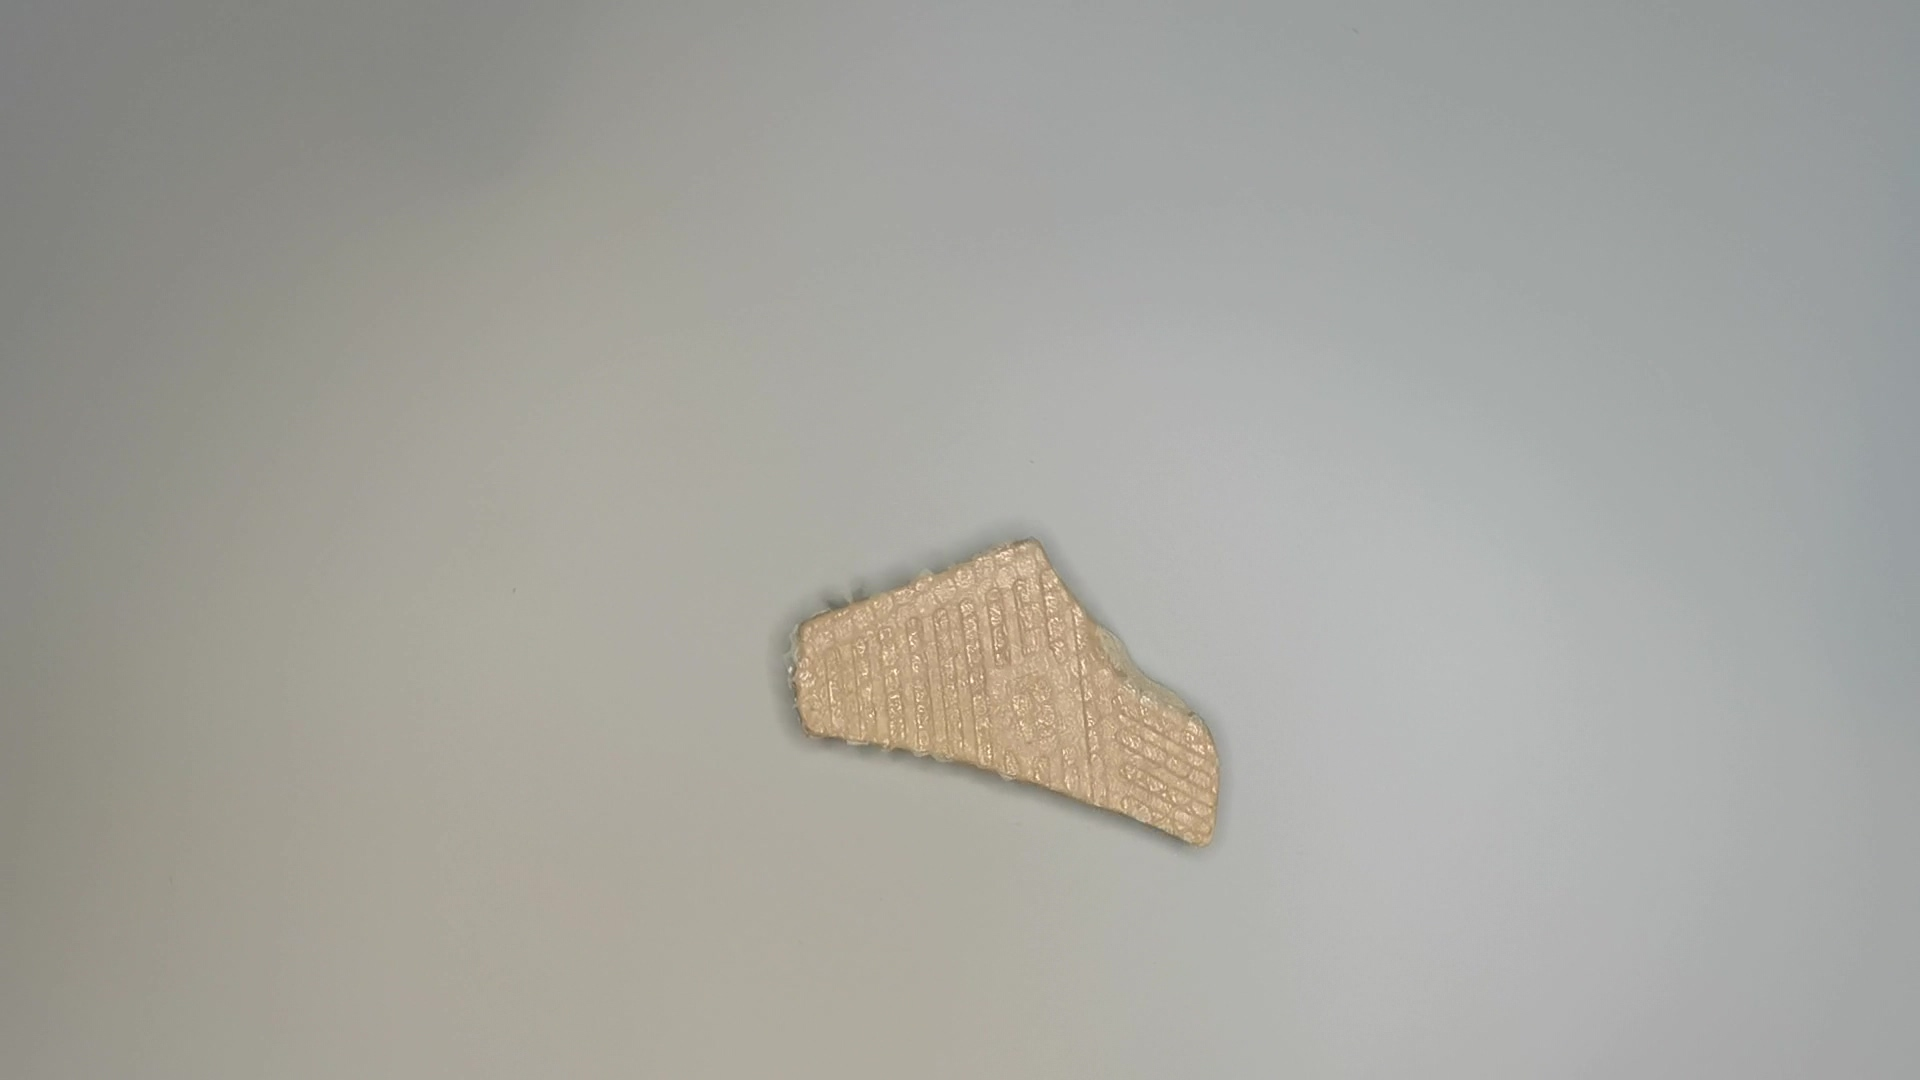ceramic: (785, 541, 1237, 855)
